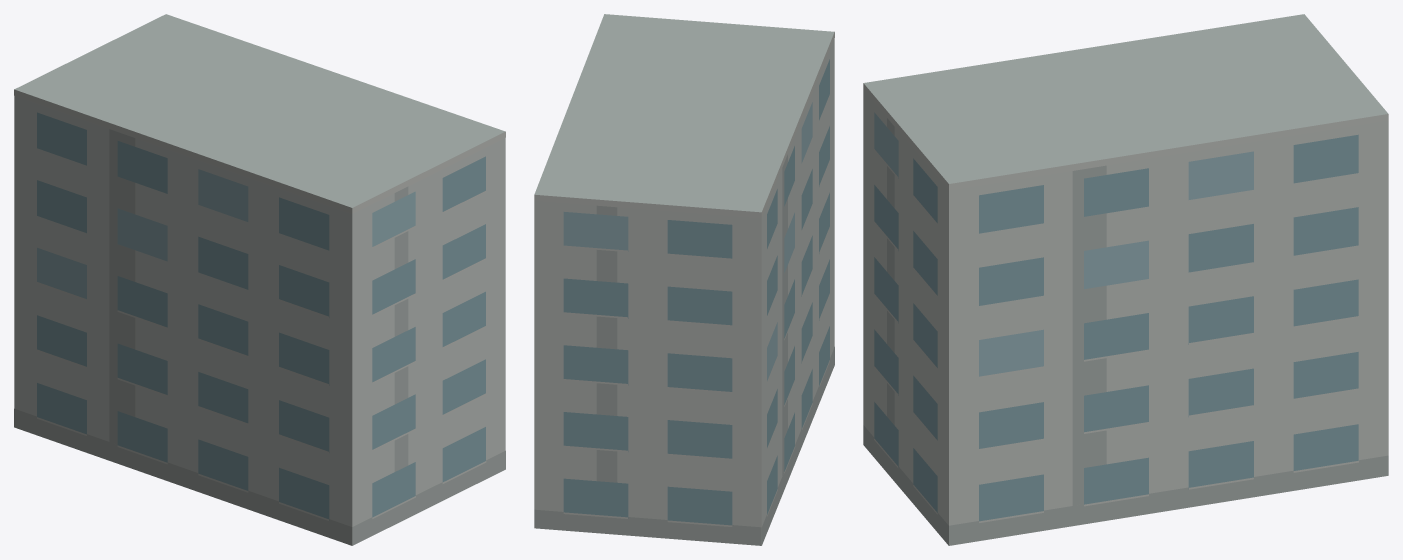
The model's file is survey-upis-32945665.glb.
3 renders of one model, left to right at view 1: azimuth 30°, elevation 25°; view 2: azimuth 150°, elevation 25°; view 3: azimuth 270°, elevation 25°, orthographic. The views are drawn at different scales.
Parts seen in each view (by area): view 1: survey-upis-32945665.tmp; view 2: survey-upis-32945665.tmp; view 3: survey-upis-32945665.tmp.
Part boxes in pixels (bbox=[...]): survey-upis-32945665.tmp: bbox=[14, 14, 505, 545]; survey-upis-32945665.tmp: bbox=[534, 14, 834, 545]; survey-upis-32945665.tmp: bbox=[863, 14, 1388, 545].
Bounding box in the file's own units: 13.31 × 13.2 × 17.37.
